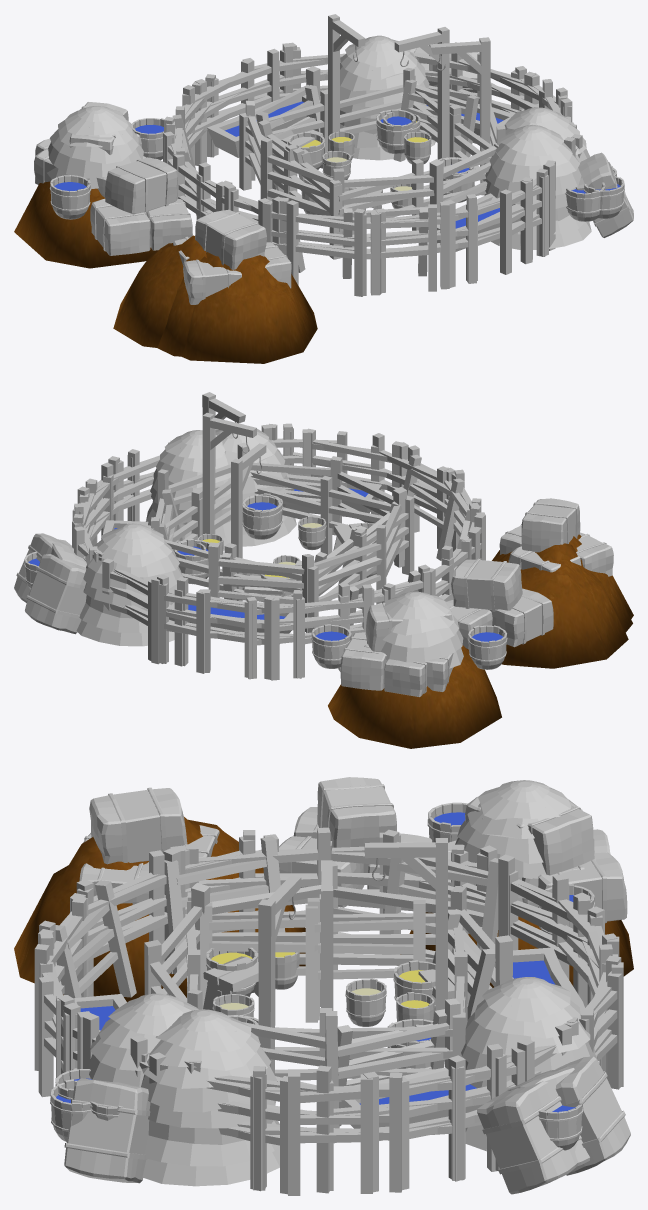
The model's file is Livestock3.fbx.
3 views of the same model, one above another, from view 1: azimuth 30°, elevation 25°; view 2: azimuth 150°, elevation 25°; view 3: azimuth 270°, elevation 25° (orthographic). The views are drawn at different scales.
Visible parts, largest first — view 1: DungHeap.004, Hay.003, Hay.002, Hay.001, Hay.011, Hay.004, DungHeap.001, DungHeap.003, Fence.016, Fence.059, Fence.122, Hook.001 (+58 smaller); view 2: DungHeap.001, DungHeap.003, Hay.011, Hay.003, Hay.001, Hay.004, Hay.006, Hay.008, Hay.007, Fence.127, Hay.002, Hook.001 (+55 smaller); view 3: Hay.007, Hay.011, Hay.001, Hay.009, Hay.003, Hay.012, Hay.004, Hay.006, DungHeap.004, Hay.002, Fence.007, Fence.020 (+76 smaller).
Boxes of the visible parts, left/top/right/bottom form: DungHeap.004: left=181, top=255, right=317, bottom=363; Hay.003: left=90, top=157, right=192, bottom=255; Hay.002: left=485, top=125, right=591, bottom=249; Hay.001: left=173, top=209, right=291, bottom=304; Hay.011: left=340, top=35, right=435, bottom=160; Hay.004: left=47, top=106, right=143, bottom=188; DungHeap.001: left=14, top=181, right=157, bottom=268; DungHeap.003: left=113, top=235, right=206, bottom=347; Fence.016: left=262, top=200, right=365, bottom=296; Fence.059: left=363, top=204, right=436, bottom=295; Fence.122: left=260, top=137, right=333, bottom=215; Hook.001: left=394, top=27, right=449, bottom=159; DungHeap.001: left=328, top=645, right=501, bottom=748; DungHeap.003: left=502, top=543, right=628, bottom=668; Hay.011: left=76, top=523, right=182, bottom=646; Hay.003: left=446, top=558, right=553, bottom=649; Hay.001: left=499, top=498, right=613, bottom=576; Hay.004: left=367, top=591, right=463, bottom=668; Hay.006: left=340, top=602, right=427, bottom=697; Hay.008: left=25, top=554, right=86, bottom=634; Hay.007: left=146, top=430, right=230, bottom=550; Fence.127: left=208, top=543, right=304, bottom=604; Hay.002: left=215, top=423, right=296, bottom=546; Hook.001: left=202, top=412, right=256, bottom=533; Hay.007: left=141, top=1009, right=279, bottom=1186; Hay.011: left=461, top=977, right=598, bottom=1151; Hay.001: left=79, top=787, right=219, bottom=904; Hay.009: left=64, top=1078, right=150, bottom=1183; Hay.003: left=279, top=777, right=432, bottom=907; Hay.012: left=477, top=1081, right=578, bottom=1194; Hay.004: left=455, top=780, right=594, bottom=901; Hay.006: left=474, top=805, right=627, bottom=923; DungHeap.004: left=14, top=837, right=186, bottom=1002; Hay.002: left=87, top=993, right=198, bottom=1086; Fence.007: left=288, top=1071, right=372, bottom=1195; Fence.020: left=305, top=900, right=425, bottom=1022.
Size of the model in its own units: 999 by 465 by 1286.
